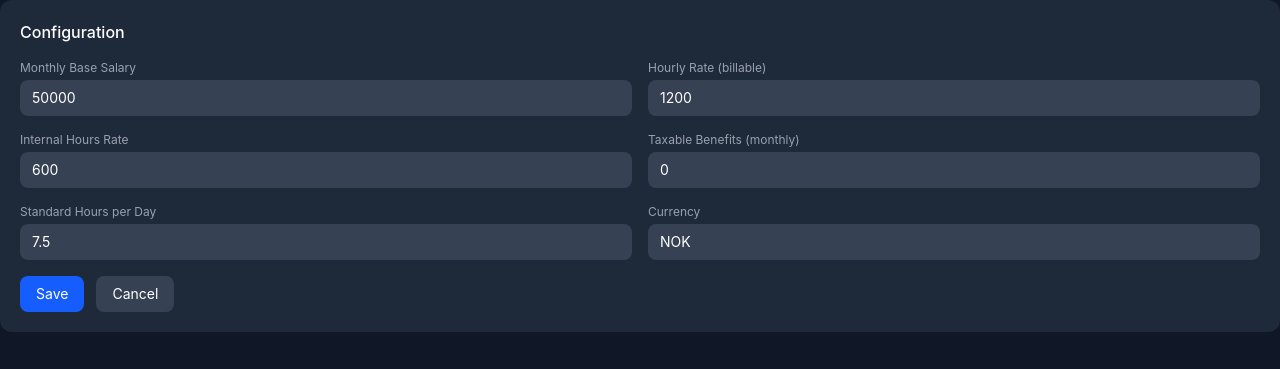
Test: ConfigEditor decimal input › blocks the save when a required field is cleared
Clear the field labelled "Standard Hours per Day" at (326, 242), box [20, 224, 632, 260]
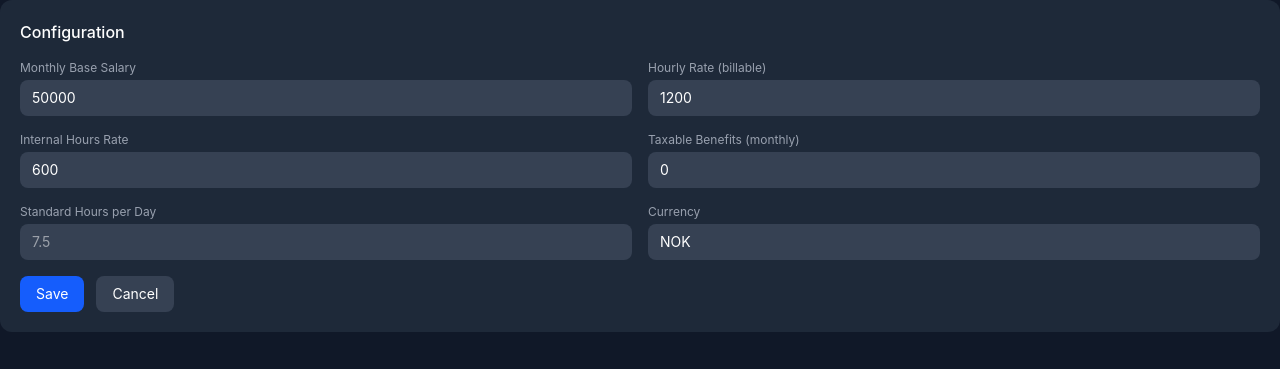
Click the button "Save" at (52, 294), box [20, 276, 84, 312]
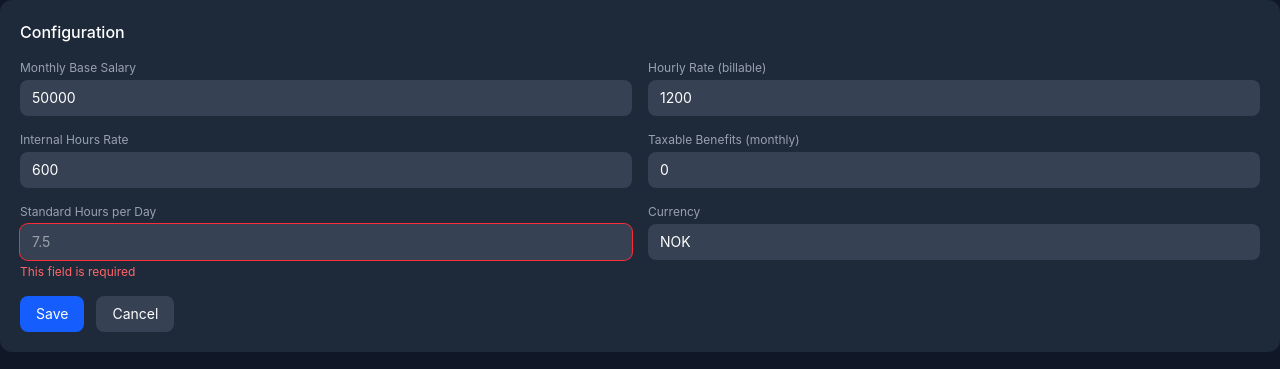
Result: the text "This field is required" is shown at [20, 264, 135, 279]
